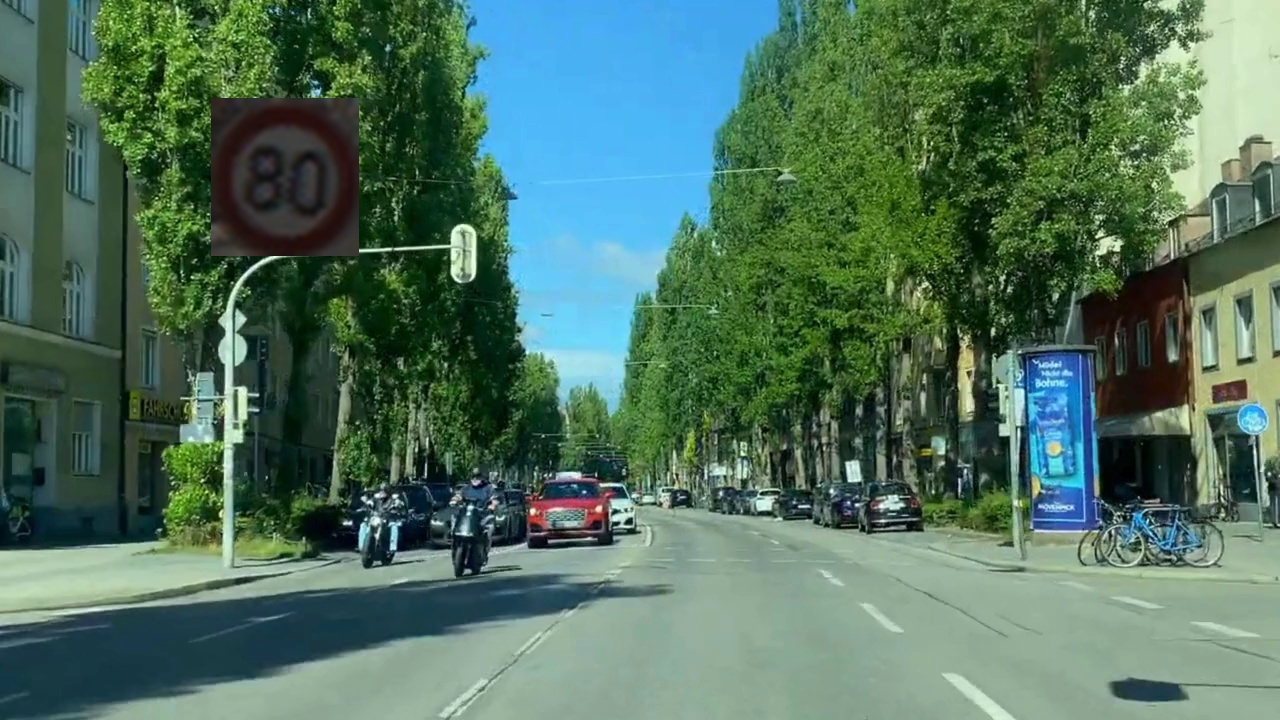Speed 80: (211, 98, 359, 256)
